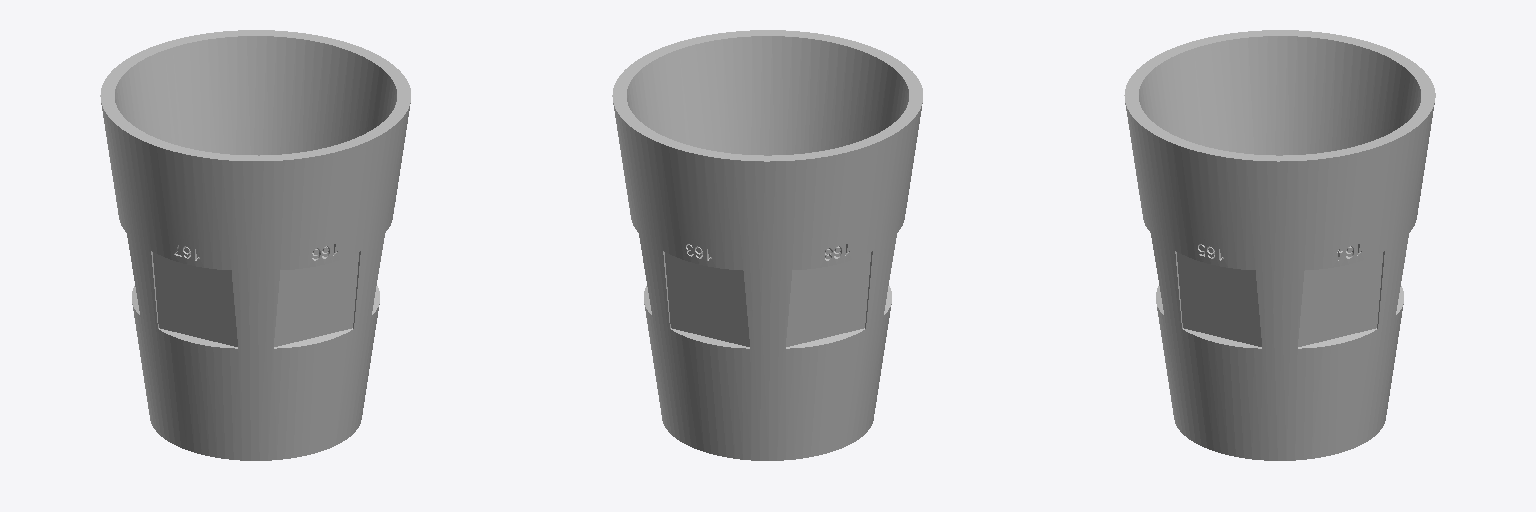
The model's file is lamp_hood.obj.
3 renders of one model, left to right at view 1: azimuth 30°, elevation 25°; view 2: azimuth 150°, elevation 25°; view 3: azimuth 270°, elevation 25°, orthographic.
Parts seen in each view (by area): view 1: lamp_hood_v22, lamp_hood_v22.004, lamp_hood_v22.005; view 2: lamp_hood_v22, lamp_hood_v22.006, lamp_hood_v22.001; view 3: lamp_hood_v22, lamp_hood_v22.003, lamp_hood_v22.002.
Part boxes in pixels (x1,y1,x2,y2): lamp_hood_v22: (100,30,410,460); lamp_hood_v22.004: (274,252,358,346); lamp_hood_v22.005: (153,252,237,346); lamp_hood_v22: (612,30,922,460); lamp_hood_v22.006: (786,252,870,346); lamp_hood_v22.001: (665,252,749,346); lamp_hood_v22: (1124,30,1435,460); lamp_hood_v22.003: (1177,252,1261,346); lamp_hood_v22.002: (1298,252,1382,346).
Size of the model in its own units: 0.088 by 0.1 by 0.088.